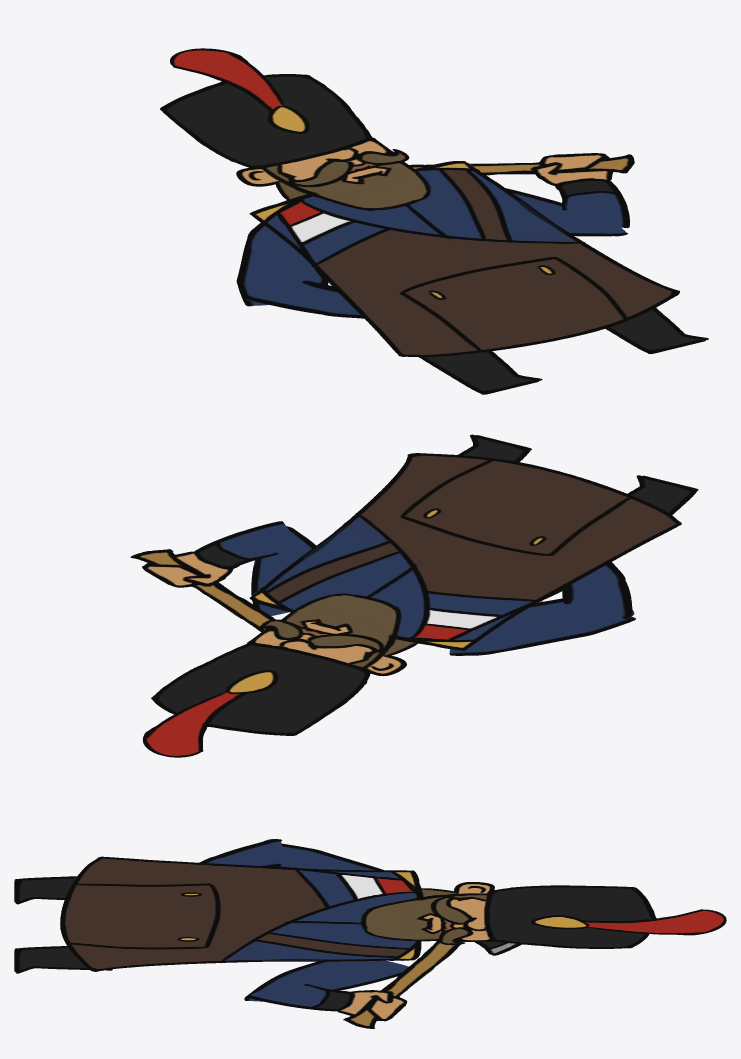
File: meleeman.fbx
3 views of the same model, one above another, from view 1: azimuth 30°, elevation 25°; view 2: azimuth 150°, elevation 25°; view 3: azimuth 270°, elevation 25° (orthographic). The views are drawn at different scales.
Visible parts, largest first — view 1: torso, Rarmlow, Larmup, Lfoot, Larmlow, Rfoot, Rarmup; view 2: torso, Rarmlow, Larmup, Larmlow, Rarmup, Lfoot, Rfoot; view 3: torso, Rarmlow, Rarmup, Larmup, Rfoot, Larmlow, Lfoot.
Part boxes in pixels (<box>): torso: <box>160,48,679,357</box>; Rarmlow: <box>409,153,634,227</box>; Larmup: <box>236,223,328,306</box>; Lfoot: <box>419,351,542,394</box>; Larmlow: <box>243,280,363,318</box>; Rfoot: <box>605,308,708,353</box>; Rarmup: <box>505,188,627,236</box>; torso: <box>142,453,681,757</box>; Rarmlow: <box>130,521,289,632</box>; Larmup: <box>449,598,635,655</box>; Larmlow: <box>562,562,634,618</box>; Rarmup: <box>251,526,316,615</box>; Lfoot: <box>628,475,698,514</box>; Rfoot: <box>458,434,531,462</box>; torso: <box>60,856,726,971</box>; Rarmlow: <box>247,941,521,1028</box>; Rarmup: <box>244,960,408,1001</box>; Larmup: <box>279,843,383,870</box>; Rfoot: <box>14,946,112,973</box>; Larmlow: <box>200,839,281,866</box>; Lfoot: <box>14,876,76,904</box>.
Size of the model in its own units: 12.84 by 0.3792 by 17.84.
